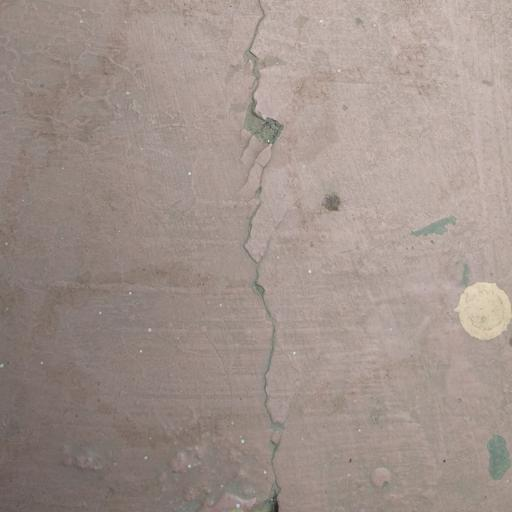minor_crack: (234, 0, 299, 512)
